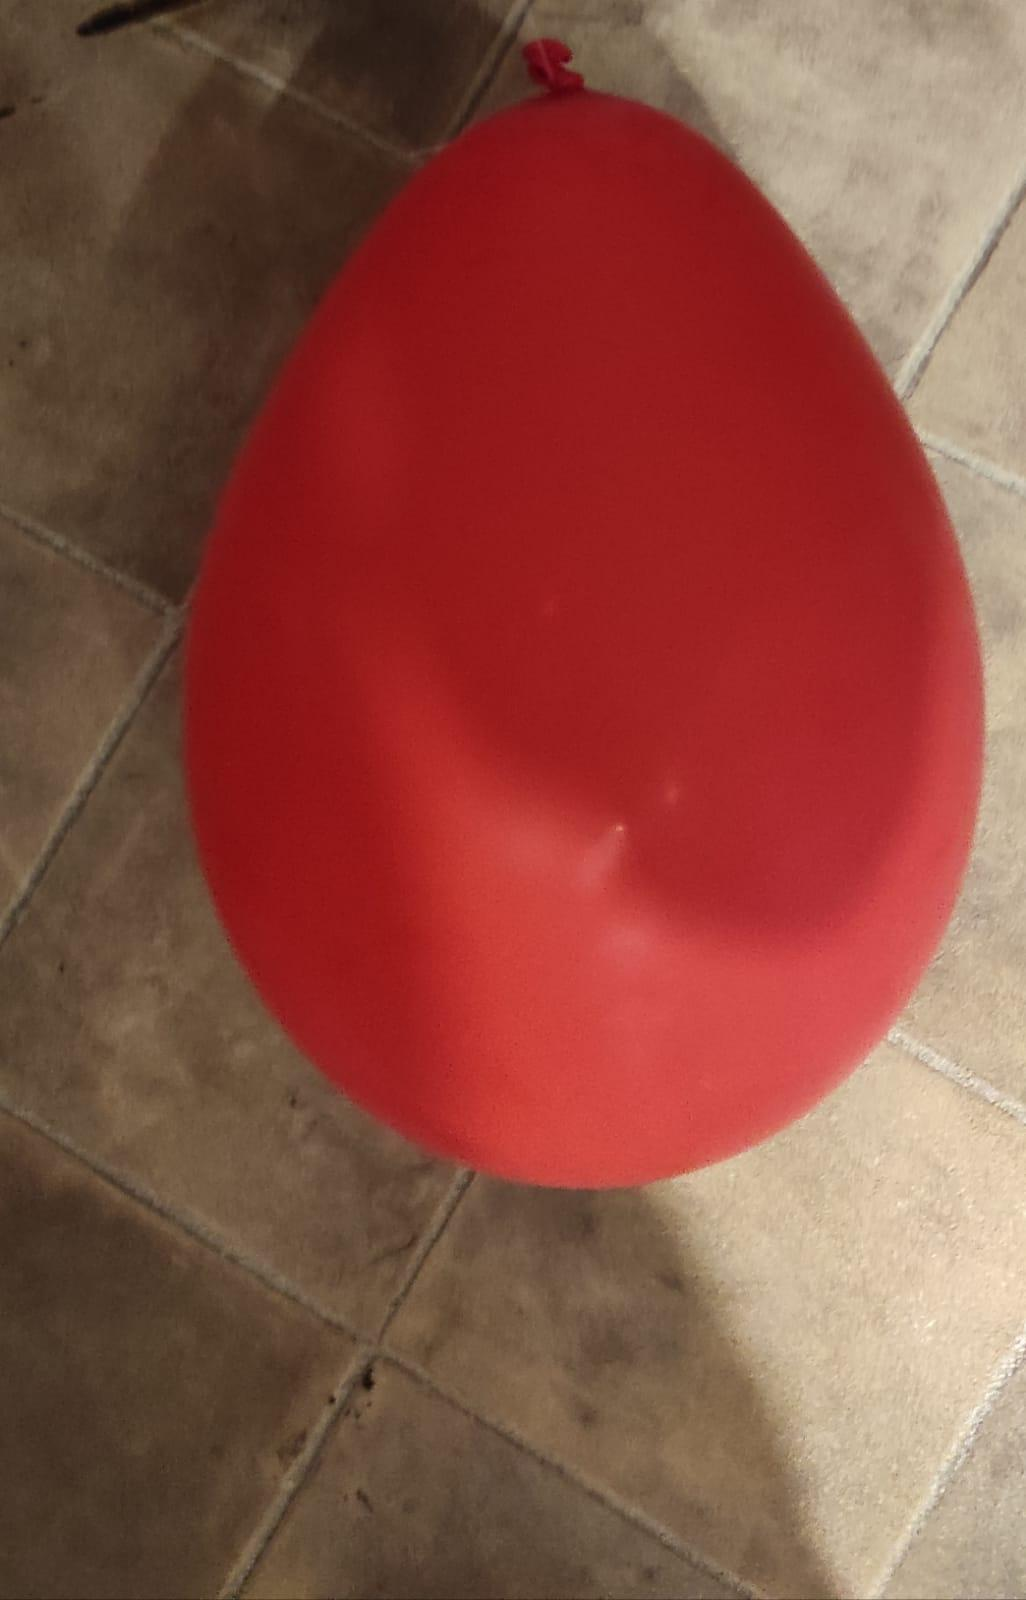red: (181, 24, 991, 1208)
